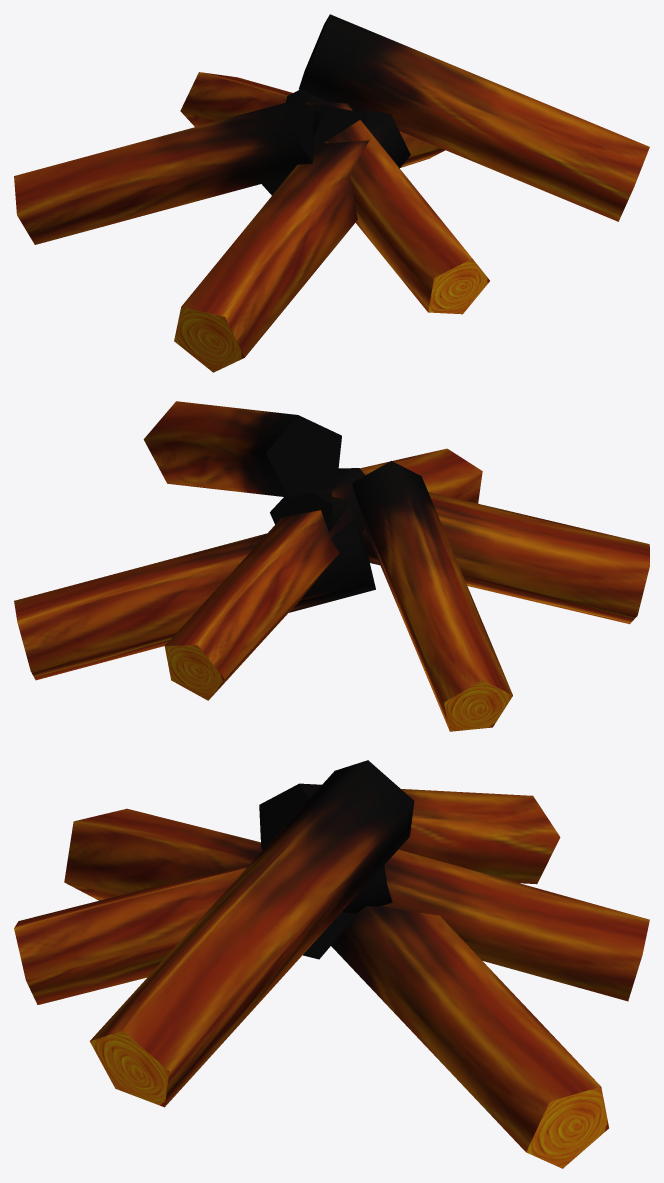
File: wood1.fbx
3 renders of one model, top to bottom at view 1: azimuth 30°, elevation 25°; view 2: azimuth 150°, elevation 25°; view 3: azimuth 270°, elevation 25°, orthographic. The views are drawn at different scales.
Visible parts, largest first — view 1: wood1; view 2: wood1; view 3: wood1.
Part boxes in pixels (x1=…): wood1: x1=14, y1=14, x2=649, y2=372; wood1: x1=14, y1=401, x2=649, y2=731; wood1: x1=14, y1=760, x2=649, y2=1168.
Bounding box in the file's own units: 25.8 × 12.26 × 23.41.
